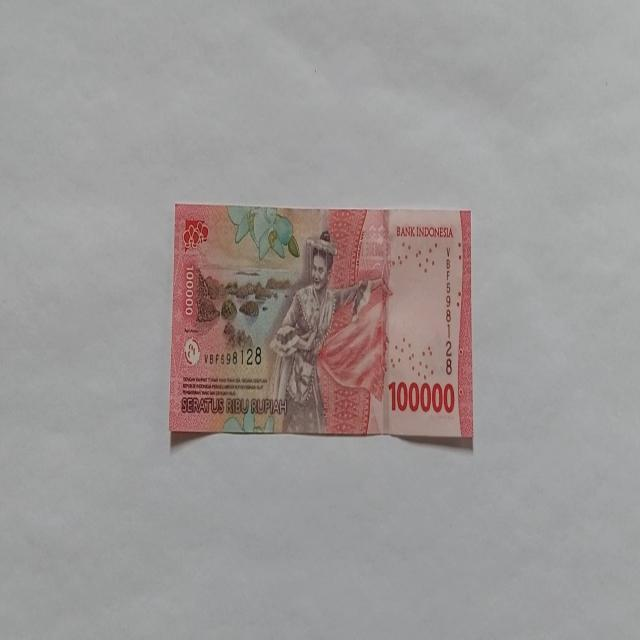seratus ribu rupiah: (168, 204, 474, 444), (266, 229, 372, 433)
